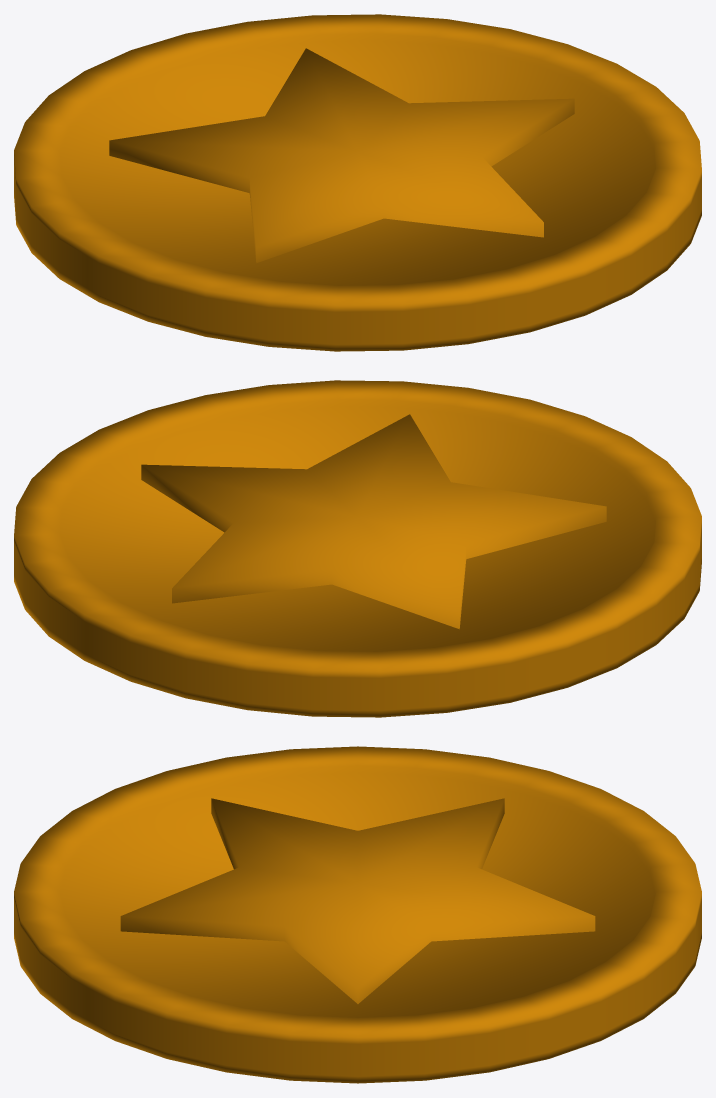
The model's file is game-coin.glb.
The picture shows the model from 3 angles, top to bottom: view 1: azimuth 30°, elevation 25°; view 2: azimuth 150°, elevation 25°; view 3: azimuth 270°, elevation 25°; orthographic projection.
Visible parts, largest first — view 1: Game Gold Coin; view 2: Game Gold Coin; view 3: Game Gold Coin.
Boxes of the visible parts, left/top/right/bottom form: Game Gold Coin: left=14, top=14, right=701, bottom=351; Game Gold Coin: left=14, top=380, right=701, bottom=717; Game Gold Coin: left=14, top=746, right=701, bottom=1083.
Size of the model in its own units: 0.4686 by 0.0472 by 0.4686.
